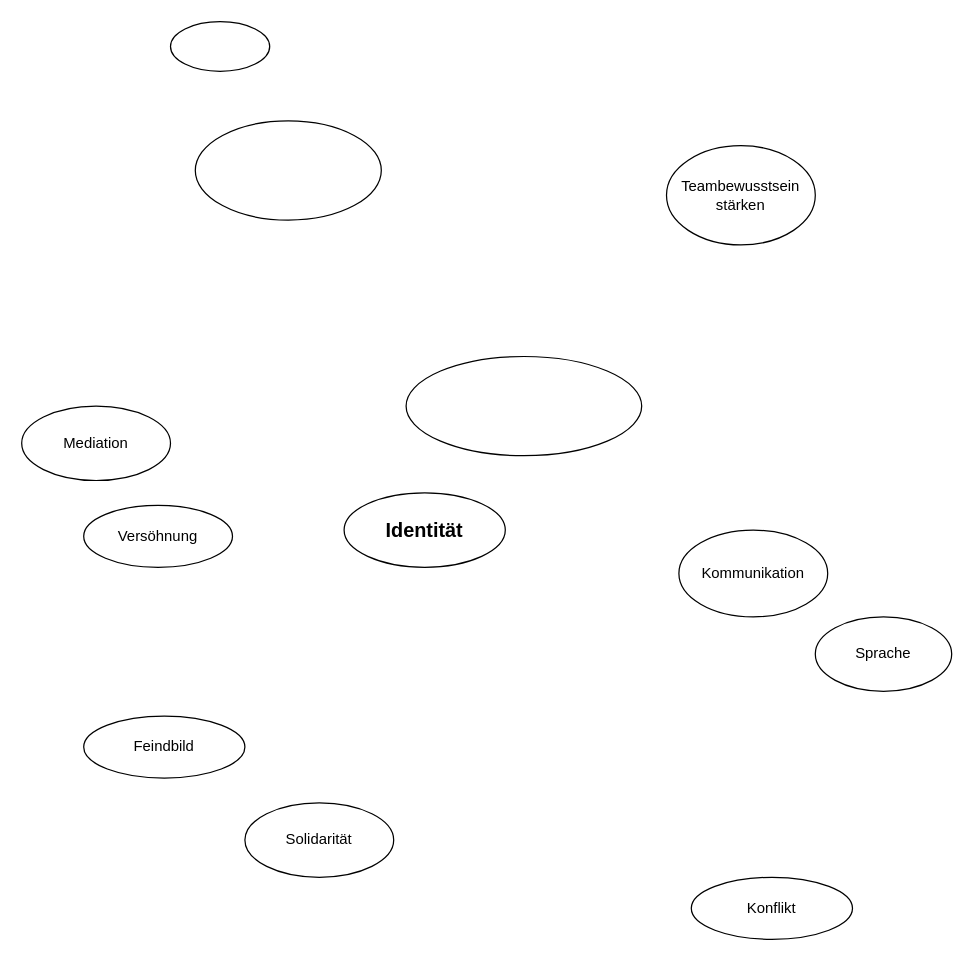
The diagram is 973 pixels wide and 961 high, and some of its shapes have lost their labels. The centre of each missing label's shape, as x and y in pixels:
"Familie" goes at point 219,45.
"Gruppenbewusstsein" goes at point 287,170.
"Konsensbildung" goes at point 523,405.
